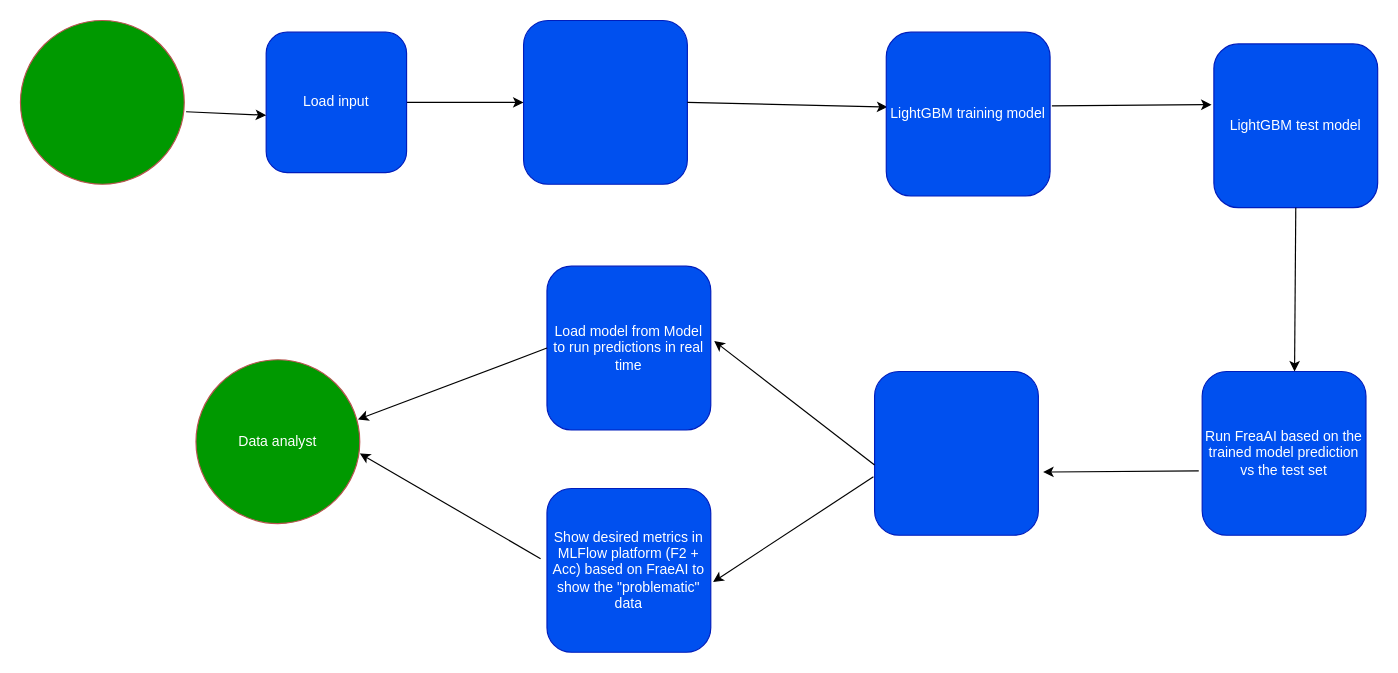
Some shapes in this 1398 by 673 pixel diagram are drawn without their labels. The shapes that lost their labels are listed below. From the top down, each one's centre as x and y in pixels, then its label:
(x=101, y=101): Pype meaurment system input
(x=604, y=101): Split the dataset into Train, Validate & Test sets - Data processing
(x=955, y=452): Register LightGBM model & FreaAI metrics into MLFlow Databricks platform
